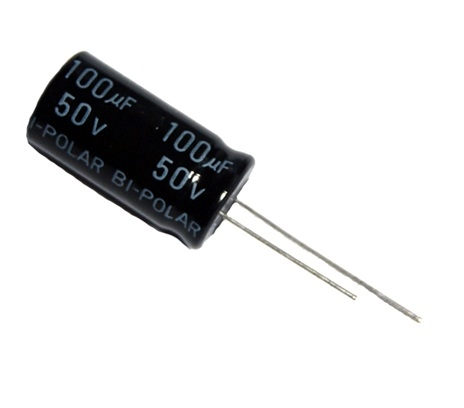capacitor: (18, 30, 277, 309)
